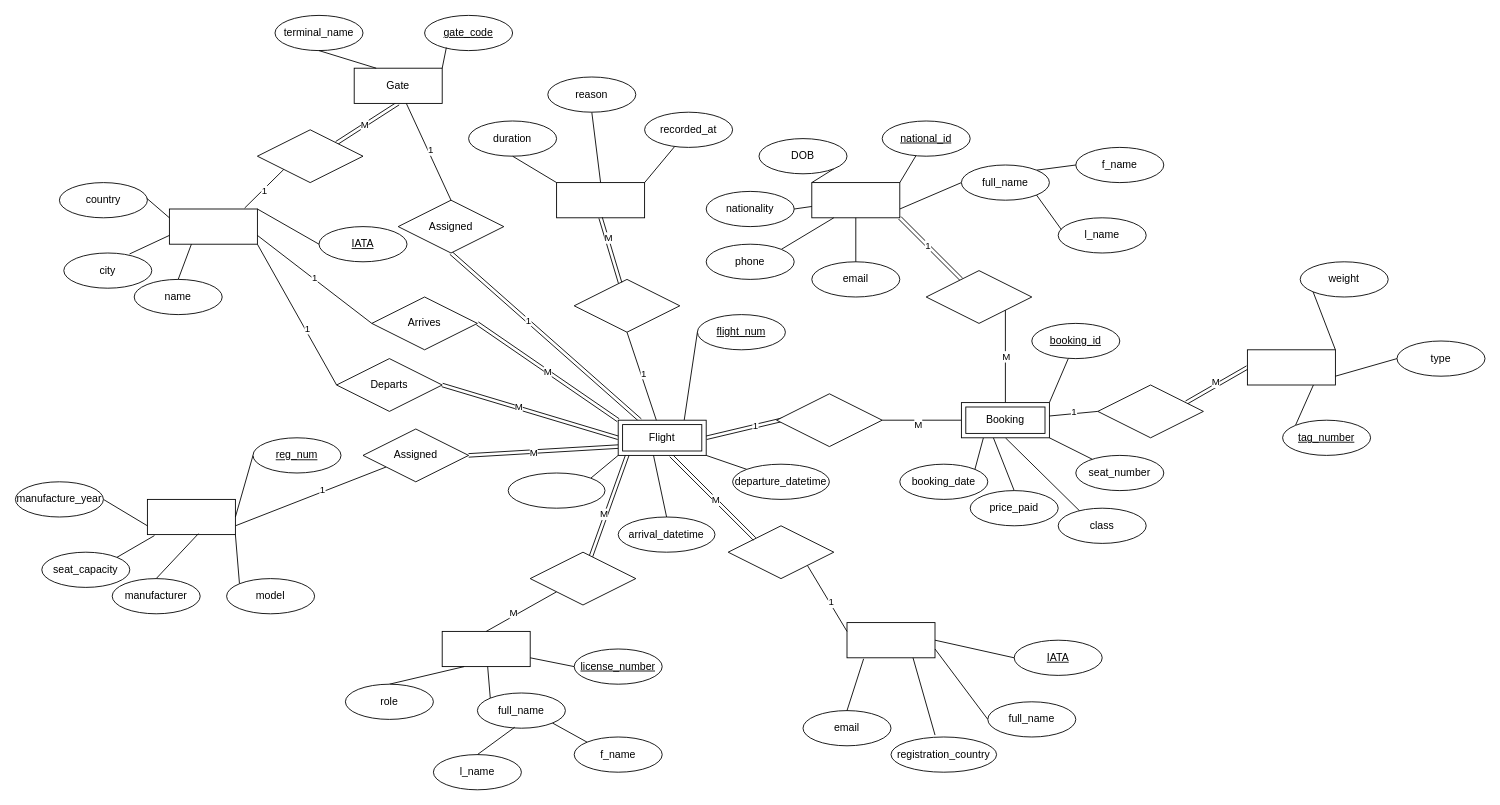
This 1500x805 diagram has some shape labels left out. Here are the shapes that lost their labels. From the top down, the box of each, then its label:
(257, 129, 363, 183): Have
(556, 182, 645, 218): Delay_log
(811, 182, 900, 218): Passenger
(169, 208, 257, 244): Airport
(573, 279, 680, 332): Relationship
(925, 270, 1032, 323): Books
(1247, 349, 1335, 385): Baggage
(776, 393, 882, 447): Associated
(1097, 384, 1203, 438): Includes
(507, 472, 605, 508): status
(147, 499, 235, 535): Aircraft
(727, 525, 834, 579): Operate
(529, 551, 636, 605): Serves
(441, 631, 530, 667): Crew_m ember
(846, 622, 935, 658): Airline
